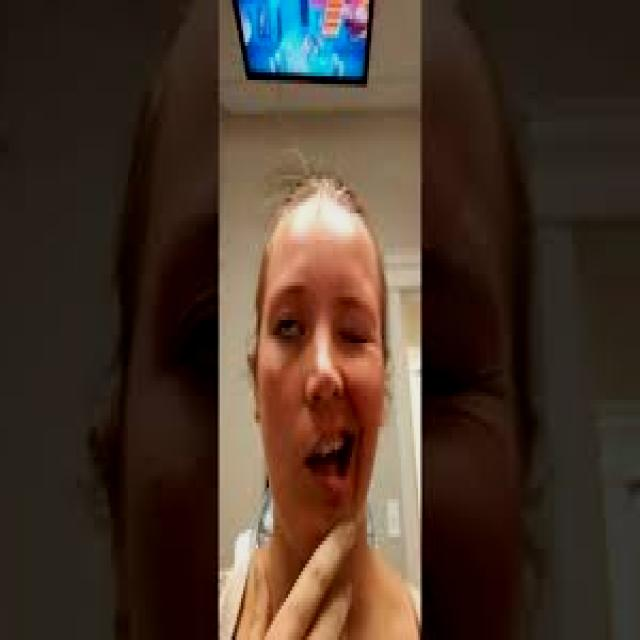stroke_face: (240, 185, 389, 555)
